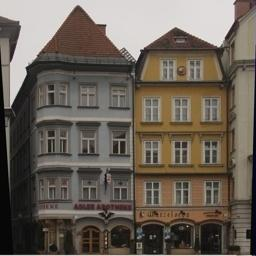building: (22, 0, 134, 251), (136, 23, 228, 252)
